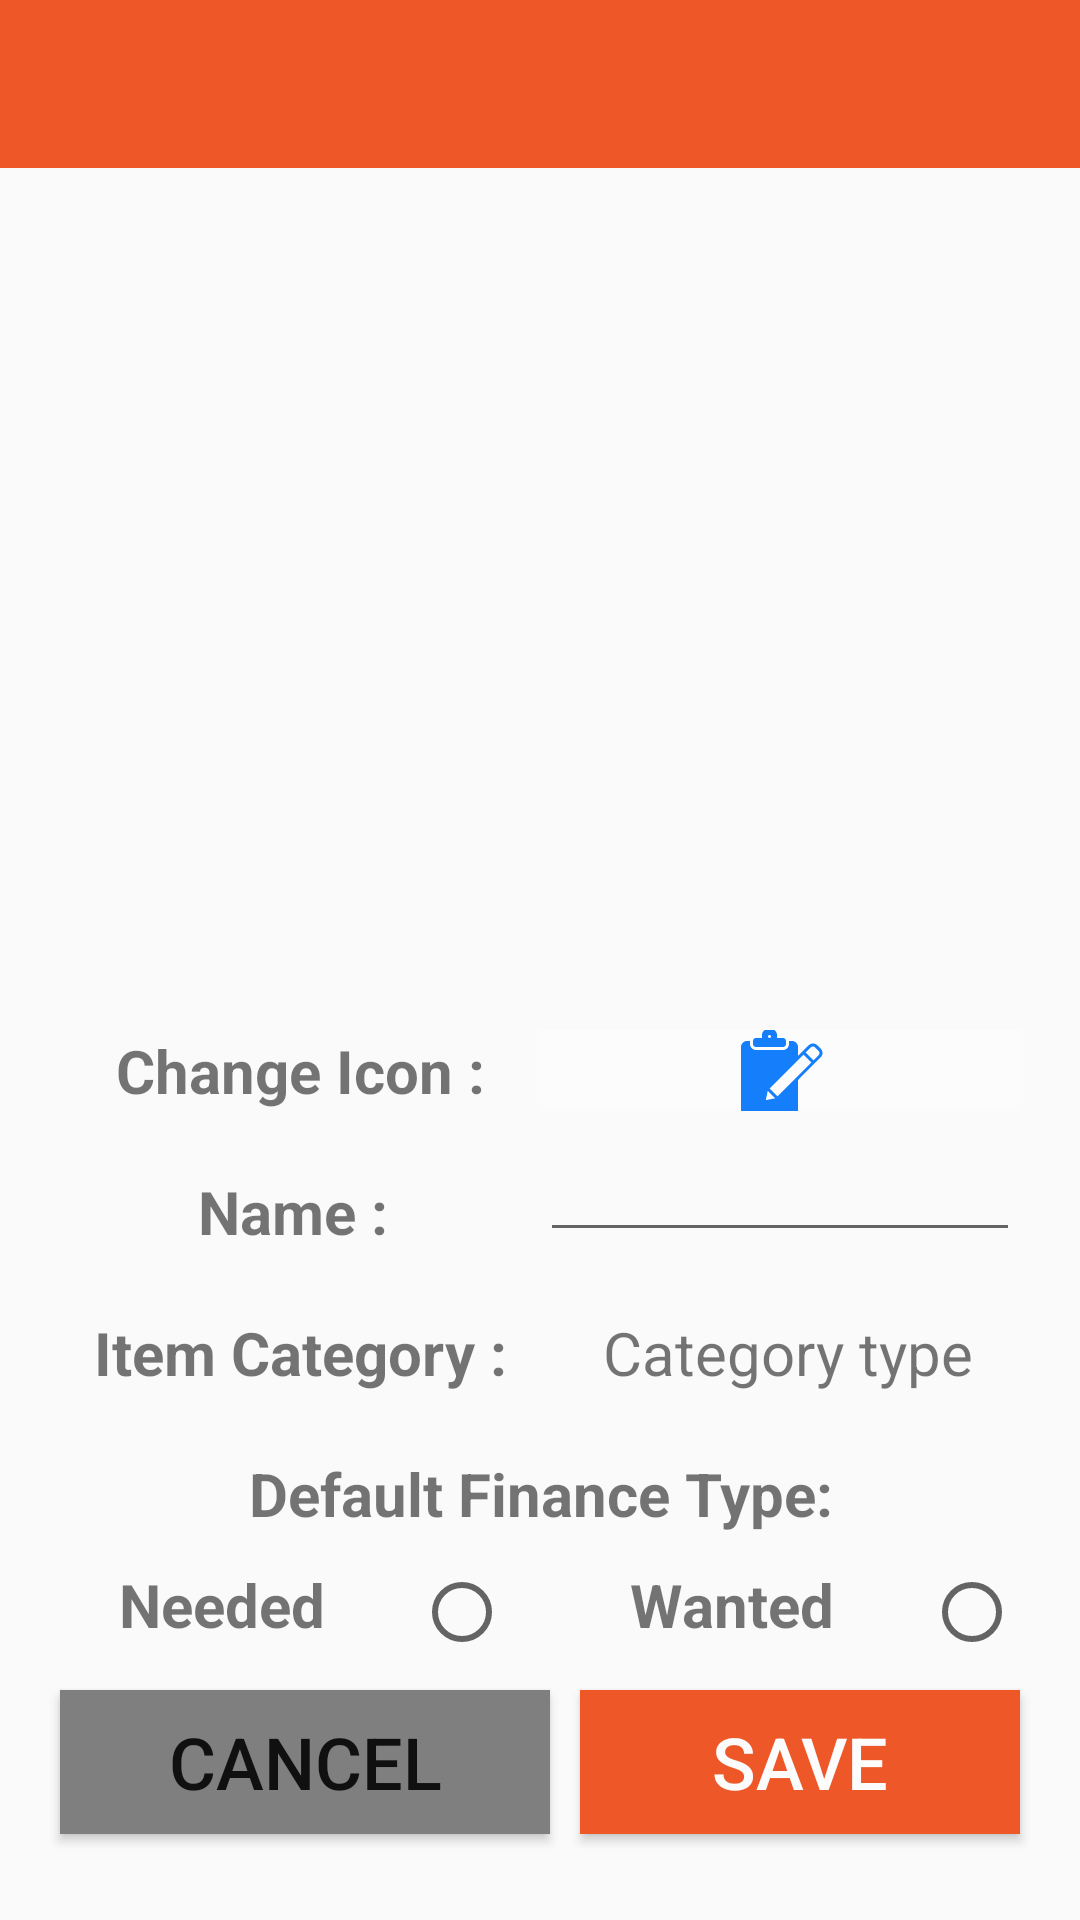

Screen size 1080*1920. Icon name, then its box in pixels as (x1, y1, x2, y2):
edit: (741, 1030, 823, 1111)
